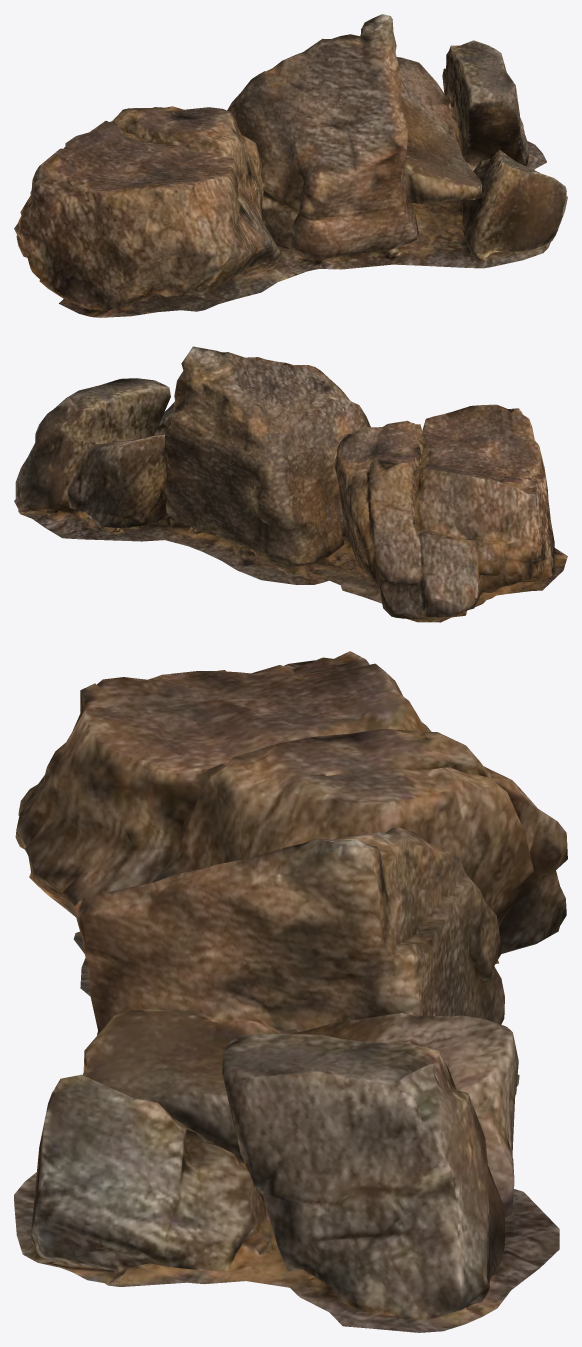
The model's file is namaqualand_boulder_02.glb.
3 renders of one model, top to bottom at view 1: azimuth 30°, elevation 25°; view 2: azimuth 150°, elevation 25°; view 3: azimuth 270°, elevation 25°, orthographic. The views are drawn at different scales.
Visible parts, largest first — view 1: boulder_02; view 2: boulder_02; view 3: boulder_02.
Part boxes in pixels (x1,y1,x2,y2): boulder_02: [14, 14, 567, 317]; boulder_02: [14, 346, 567, 622]; boulder_02: [14, 651, 567, 1332].
Size of the model in its own units: 3 by 1.05 by 1.46.
1 material, 1 textured.
